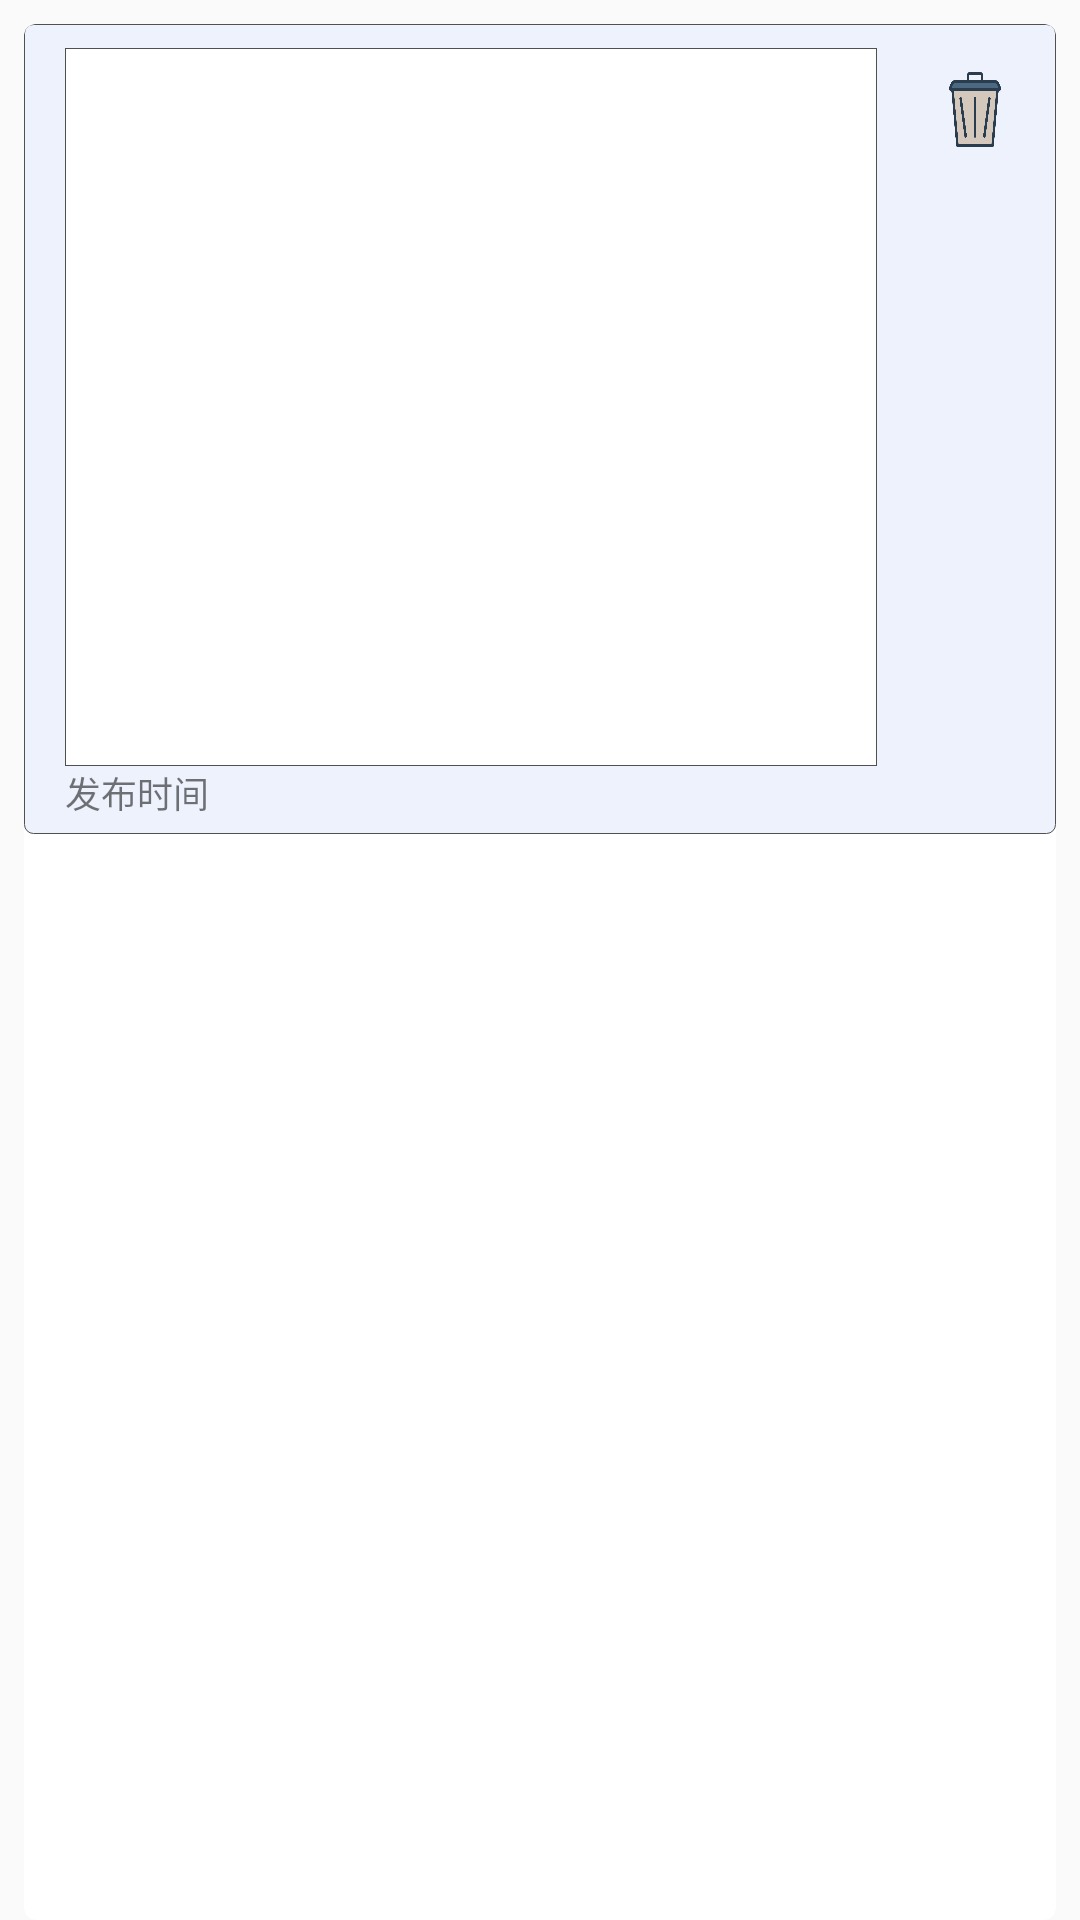

Named icons in this screenshot (1080x1920) and their bounding boxes, region(x1, y1, x2, y2):
delarticle: region(949, 72, 1001, 147)
